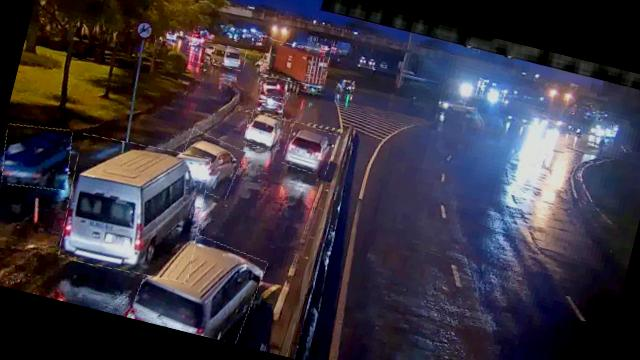Bus: (54, 129, 215, 287), (243, 110, 285, 152), (211, 44, 246, 73)
Car: (133, 222, 268, 346), (0, 117, 78, 196), (172, 130, 245, 200), (280, 122, 338, 177), (243, 110, 285, 152), (256, 82, 288, 114), (253, 98, 285, 125), (258, 75, 288, 101)
Truck: (260, 38, 330, 89)
